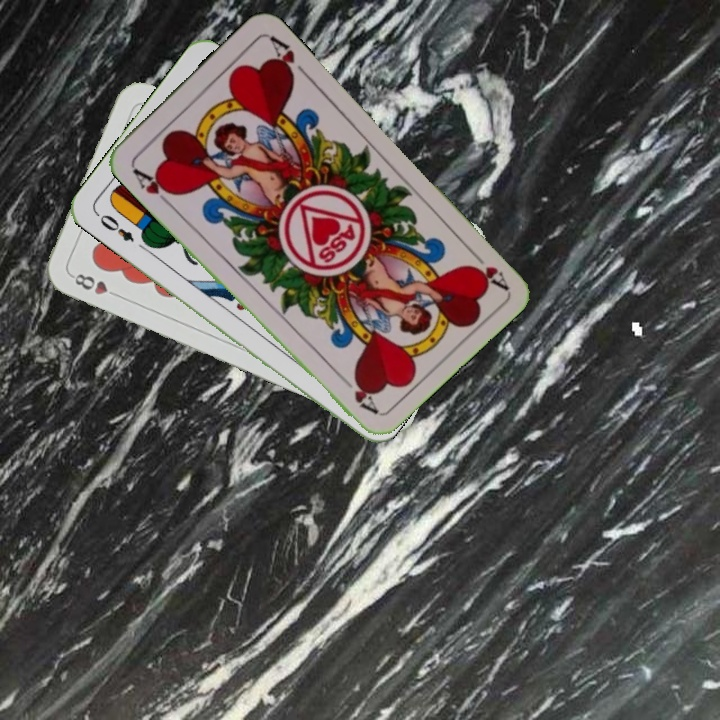EO: (92, 209, 137, 245)
H8: (67, 269, 123, 300)
HA: (128, 161, 179, 209), (464, 244, 510, 292)
